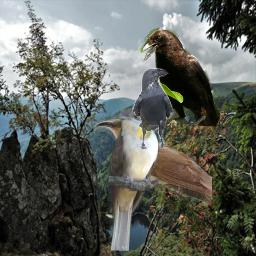Crow: (140, 27, 220, 135), (132, 68, 174, 149)
Cuckoo: (93, 118, 212, 205), (106, 107, 159, 251)
